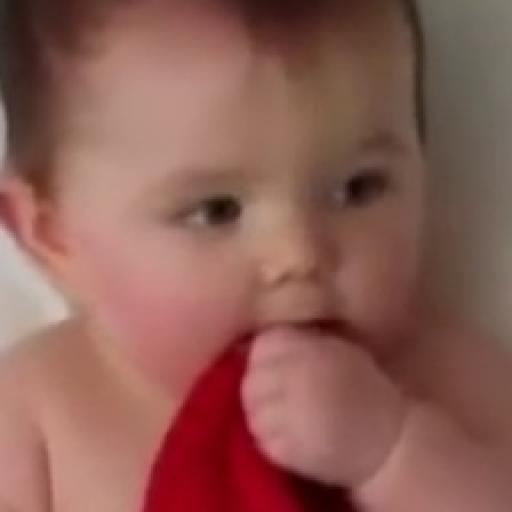Autism: (19, 13, 478, 442)
